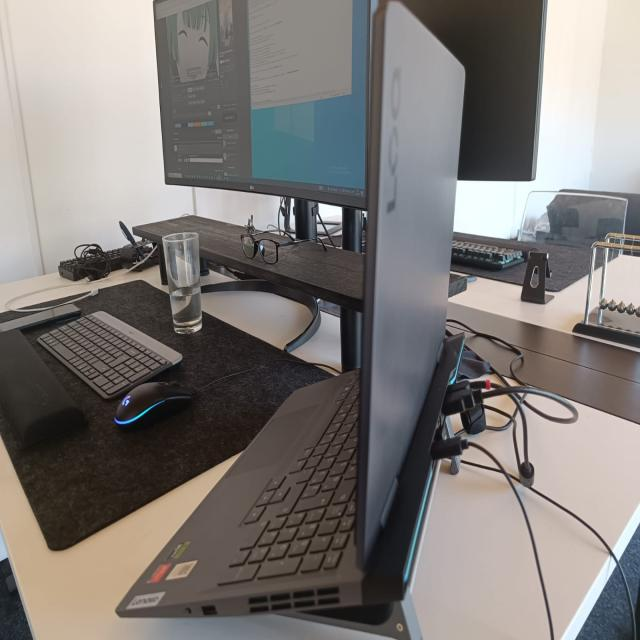Laptops_bbox: (94, 19, 560, 624)
